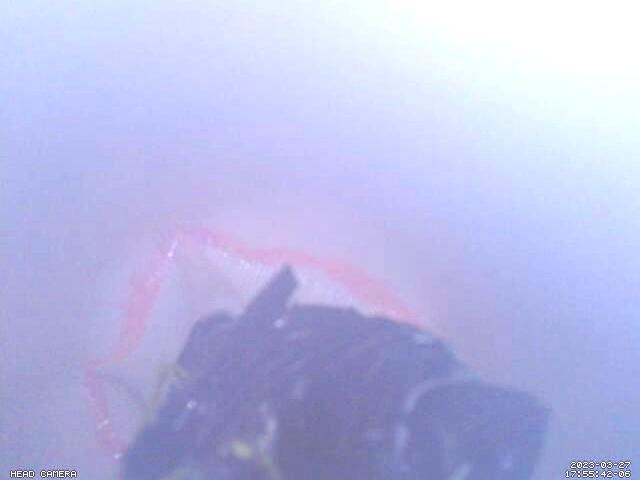head: (85, 221, 419, 461)
